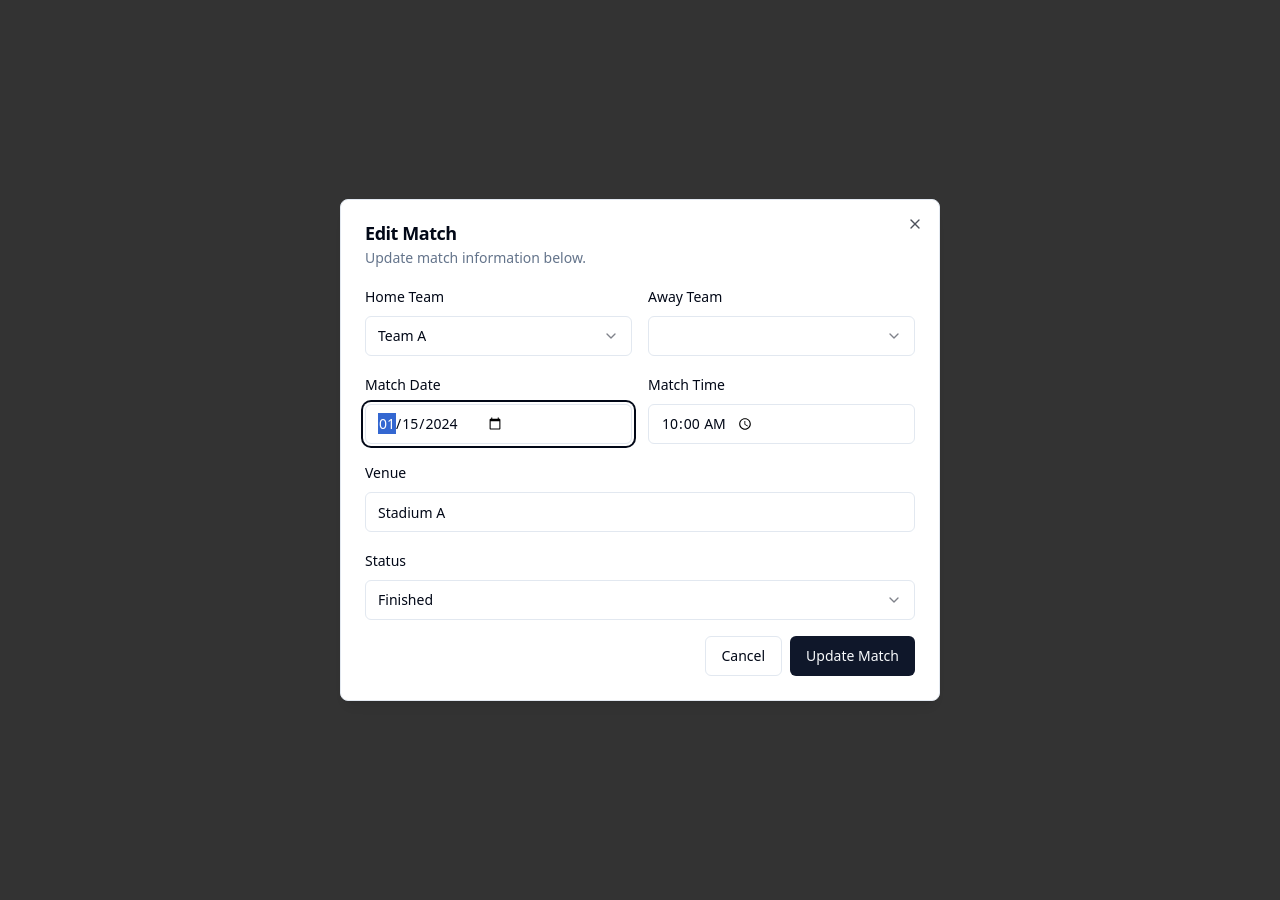
Test: MatchForm › should validate that home and away teams are different
Check: the heading "Edit Match" is shown, box top-left (365, 221), bottom-right (457, 245)
Try to submit the form - validation should catch same teams
Click the button "Update Match" at point(853, 656), box top-left (790, 636), bottom-right (915, 676)
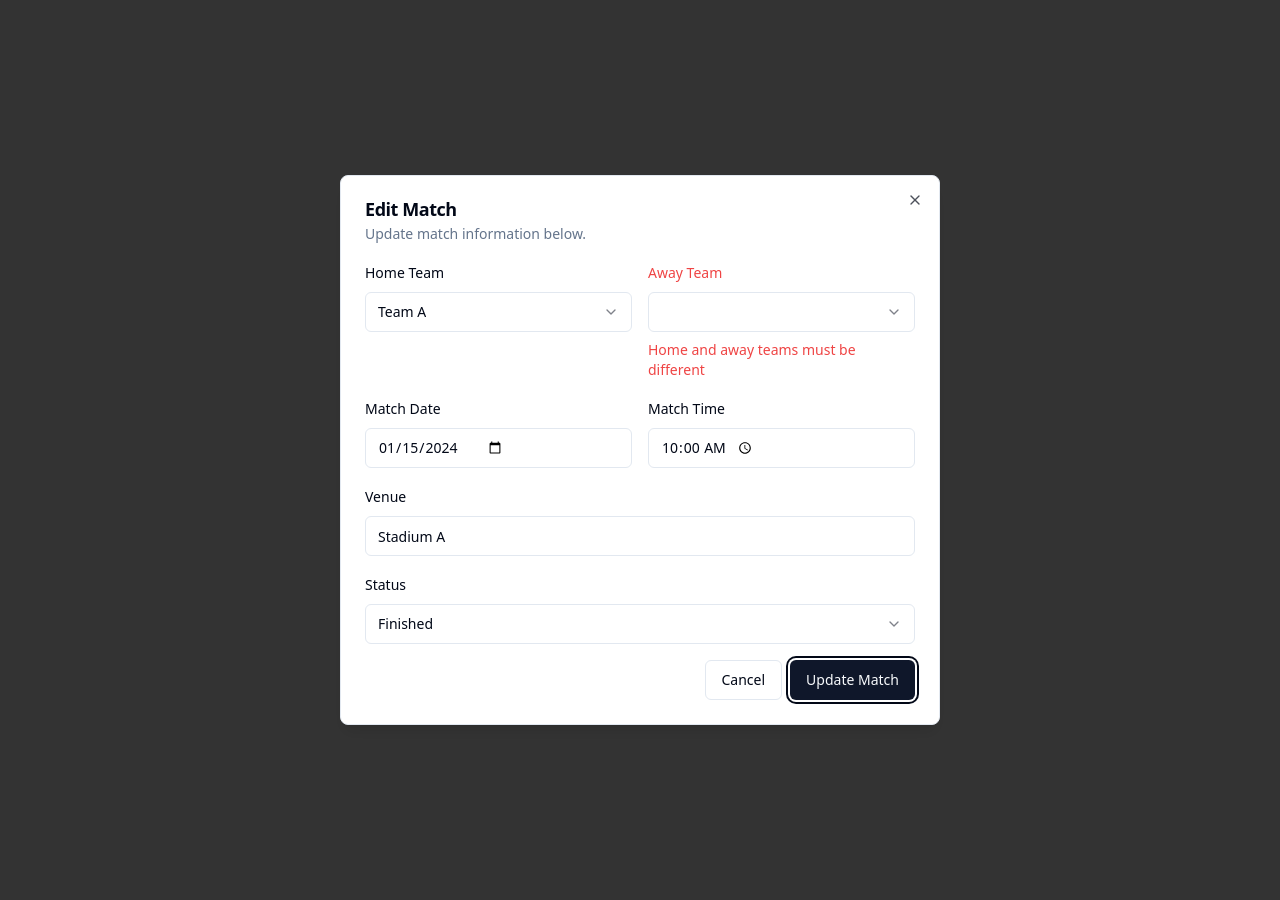
Check: the text "Home and away teams must be different" is shown, box top-left (648, 340), bottom-right (856, 379)
